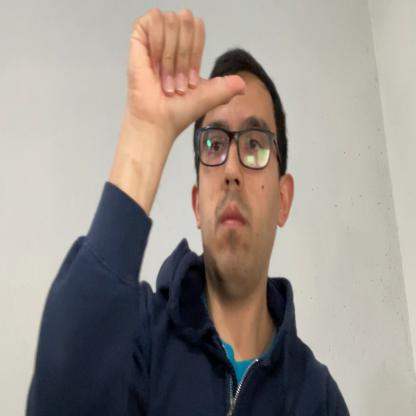A: (127, 7, 247, 136)
